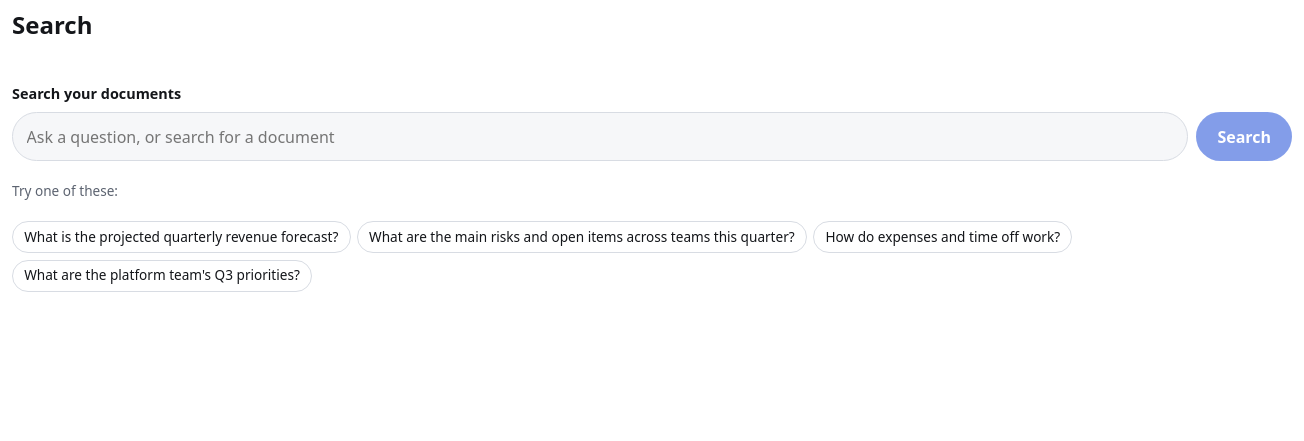
Test: CombinedSearchPage › explains that no documents may mean no permission
Step 1. Type "revenue" into the search field labelled "Search your documents" → [600, 137], box [12,112,1188,161]
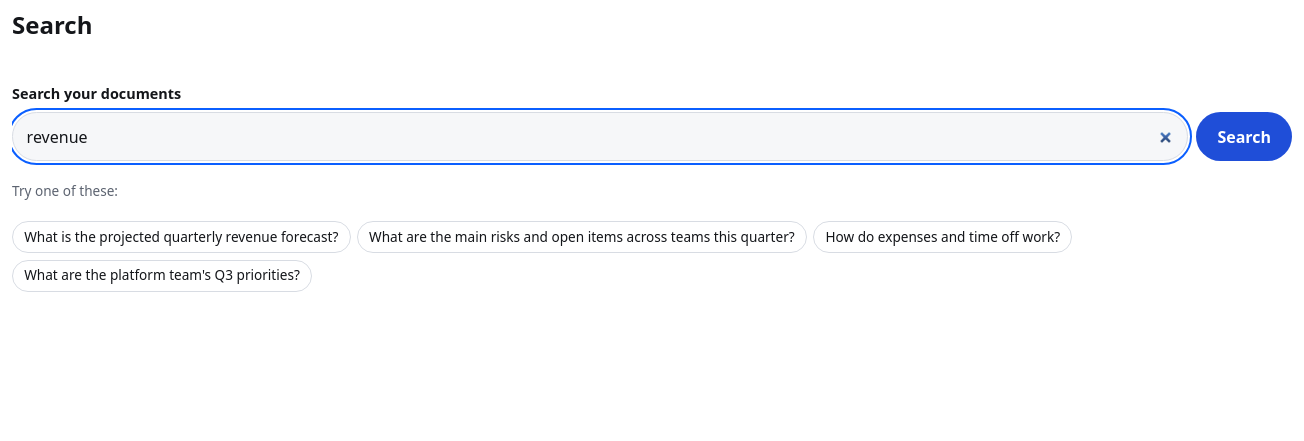
Step 2. Click the button "Search" → [1244, 137], box [1196,112,1292,161]
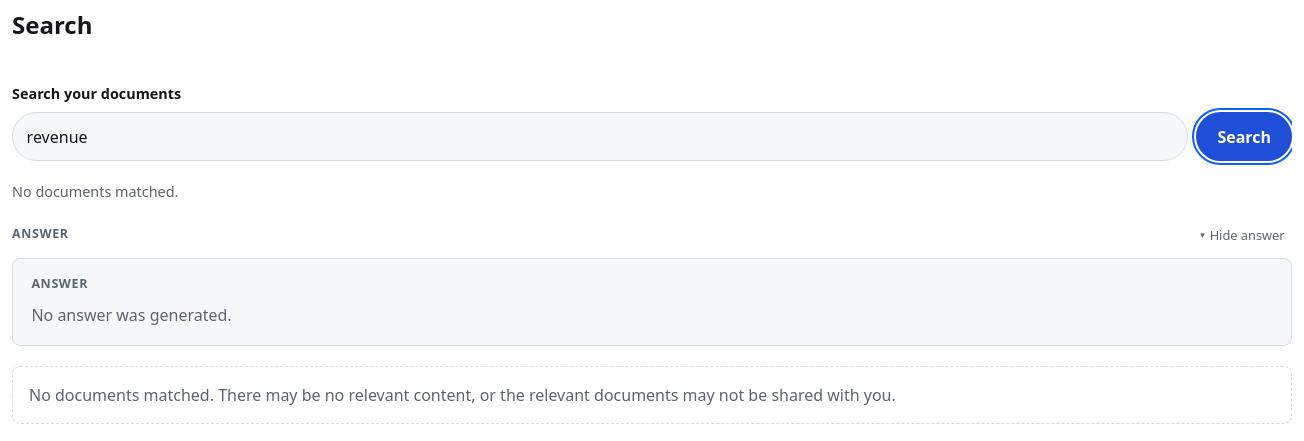
Now the text "may not be shared with you" is shown, box [29,384,896,406]
